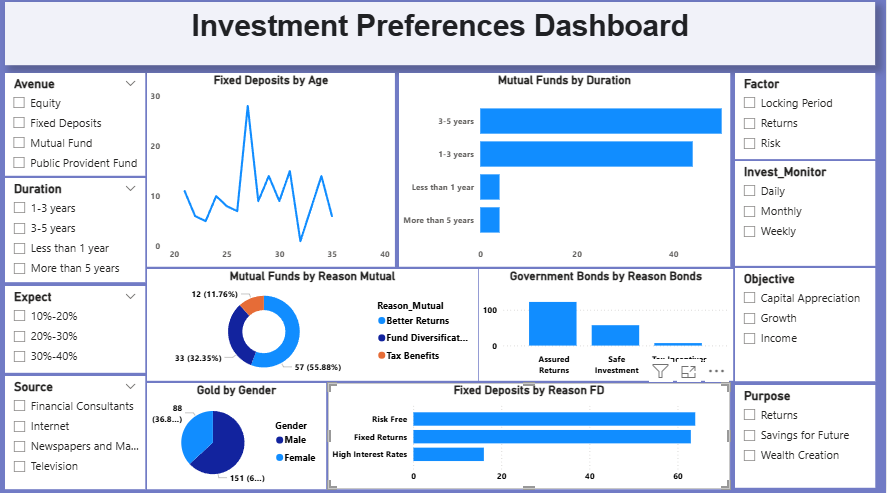

The page's visual inventory and layout, read from the dashboard file:
{"tool":"powerbi","page":{"name":"Page 1","canvas":[1280,720],"ordinal":0},"visuals":[{"type":"textbox","box":[10.1,13.4,1253.1,90.7],"z":0},{"type":"slicer","fields":{"Values":["Data_Set.Avenue"]},"box":[10.1,115.2,201.6,148.3],"z":1},{"type":"slicer","fields":{"Values":["Data_Set.Duration "]},"box":[10.1,266.4,201.6,149.8],"z":2},{"type":"slicer","fields":{"Values":["Data_Set.Expect"]},"box":[10.1,421.9,201.6,125.3],"z":3},{"type":"slicer","fields":{"Values":["Data_Set.Source"]},"box":[10.1,551.5,201.6,162.7],"z":4},{"type":"slicer","fields":{"Values":["Data_Set.Factor"]},"box":[1061.3,115.2,201.6,123.8],"z":5},{"type":"slicer","fields":{"Values":["Data_Set.Invest_Monitor"]},"box":[1061.3,241.9,201.6,151.2],"z":6},{"type":"slicer","fields":{"Values":["Data_Set.Purpose"]},"box":[1061.3,564.5,201.6,148.3],"z":7},{"type":"slicer","fields":{"Values":["Data_Set.Objective"]},"box":[1061.3,396,201.6,162.7],"z":8},{"type":"lineChart","title":"Fixed Deposits by Age","fields":{"Category":["Data_Set.Age"],"Y":["Sum(Data_Set.Fixed_Deposits)"]},"box":[214.6,115.2,357.1,279.4],"z":9},{"type":"clusteredBarChart","title":"Mutual Funds by Duration ","fields":{"Category":["Data_Set.Duration "],"Y":["Sum(Data_Set.Mutual_Funds)"]},"box":[577.4,115.2,476.6,279.4],"z":10},{"type":"pieChart","title":"Gold by Gender","fields":{"Category":["Data_Set.Gender"],"Y":["Sum(Data_Set.Gold)"]},"box":[214.6,561.6,257.8,152.6],"z":11},{"type":"clusteredColumnChart","title":"Government Bonds by Reason Bonds","fields":{"Category":["Data_Set.Reason_Bonds"],"Y":["Sum(Data_Set.Government_Bonds)"]},"box":[692.6,397.4,365.8,161.3],"z":12},{"type":"donutChart","title":"Mutual Funds by Reason Mutual","fields":{"Category":["Data_Set.Reason_Mutual"],"Y":["Sum(Data_Set.Mutual_Funds)"]},"box":[214.6,397.4,476.6,161.3],"z":13},{"type":"clusteredBarChart","title":"Fixed Deposits by Reason FD","fields":{"Category":["Data_Set.Reason_FD"],"Y":["Sum(Data_Set.Fixed_Deposits)"]},"box":[475.2,561.6,578.9,152.6],"z":14}]}

Visuals, with their boxes in screenshot pixels (x1, y1, x2, y2), scaled from the page's 1280x720 canvas onto the 887x493 screenshot:
textbox: (left=7, top=9, right=875, bottom=71)
slicer - Data_Set.Avenue: (left=7, top=79, right=147, bottom=180)
slicer - Data_Set.Duration : (left=7, top=182, right=147, bottom=285)
slicer - Data_Set.Expect: (left=7, top=289, right=147, bottom=375)
slicer - Data_Set.Source: (left=7, top=378, right=147, bottom=489)
slicer - Data_Set.Factor: (left=735, top=79, right=875, bottom=164)
slicer - Data_Set.Invest_Monitor: (left=735, top=166, right=875, bottom=269)
slicer - Data_Set.Purpose: (left=735, top=387, right=875, bottom=488)
slicer - Data_Set.Objective: (left=735, top=271, right=875, bottom=383)
"Fixed Deposits by Age" lineChart: (left=149, top=79, right=396, bottom=270)
"Mutual Funds by Duration " clusteredBarChart: (left=400, top=79, right=730, bottom=270)
"Gold by Gender" pieChart: (left=149, top=385, right=327, bottom=489)
"Government Bonds by Reason Bonds" clusteredColumnChart: (left=480, top=272, right=733, bottom=383)
"Mutual Funds by Reason Mutual" donutChart: (left=149, top=272, right=479, bottom=383)
"Fixed Deposits by Reason FD" clusteredBarChart: (left=329, top=385, right=730, bottom=489)
